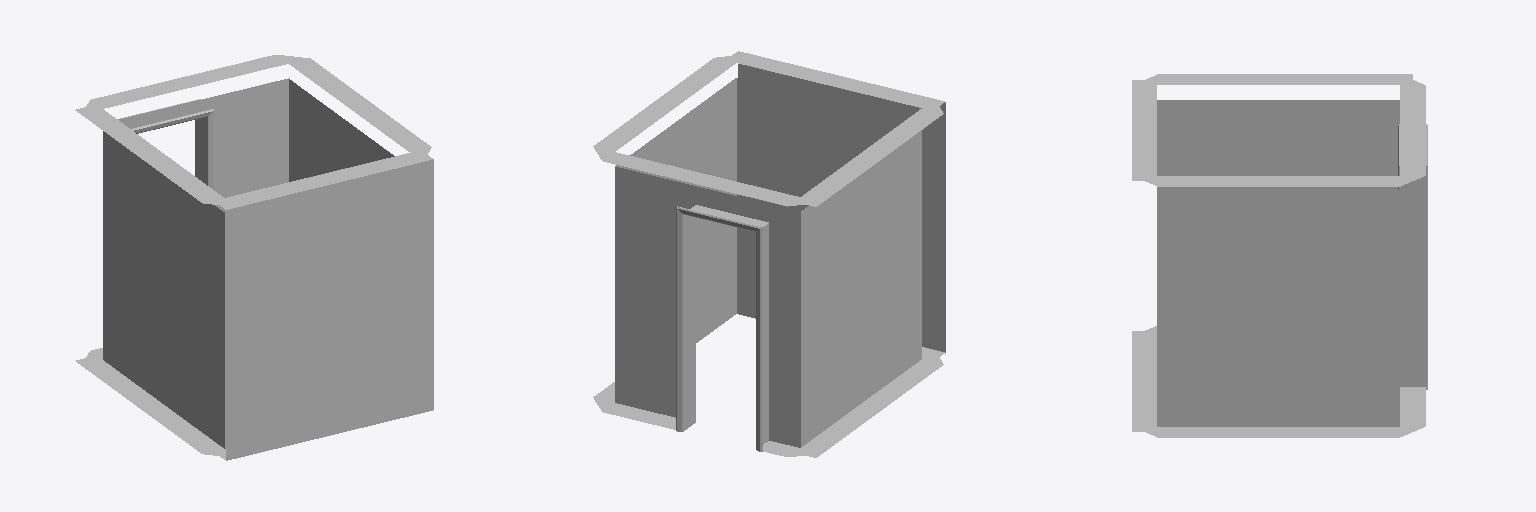
File: SecondBathroom-5147w.obj
The picture shows the model from 3 angles: view 1: azimuth 30°, elevation 25°; view 2: azimuth 150°, elevation 25°; view 3: azimuth 270°, elevation 25°; orthographic projection.
Size of the model in its own units: 2.49 by 2.6 by 2.78.